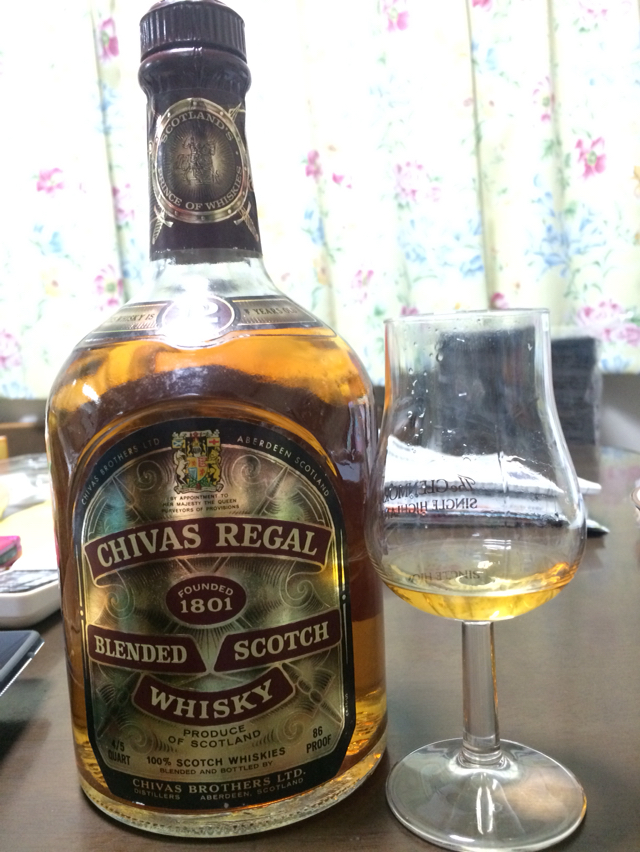Chivas Regal: (37, 1, 395, 847)
